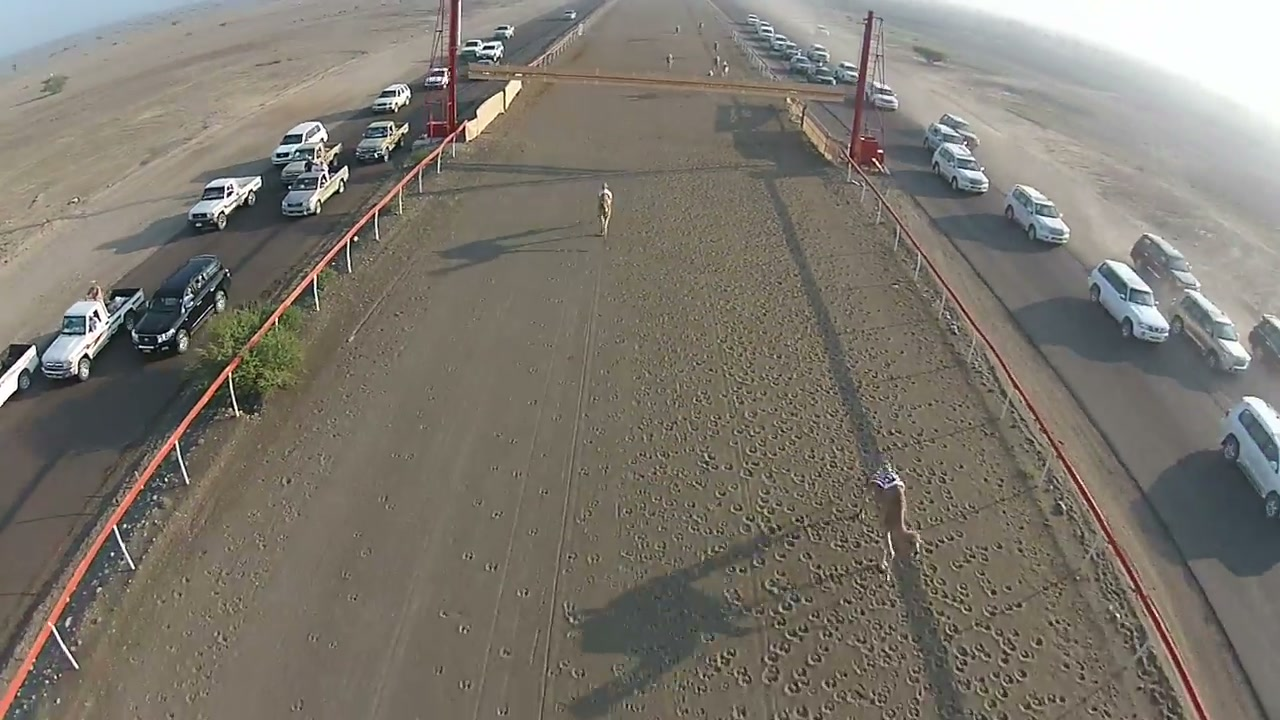animal_foot_print: (662, 258, 891, 719)
